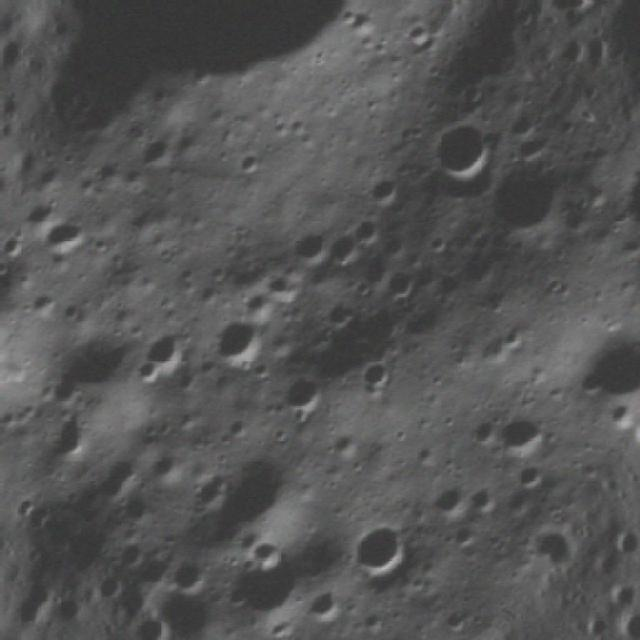crater: (560, 302, 640, 424), (477, 148, 575, 246), (413, 104, 501, 191), (595, 148, 640, 274), (343, 509, 415, 586), (210, 308, 275, 375), (90, 440, 152, 506), (130, 322, 188, 388), (40, 199, 97, 264), (496, 402, 555, 460), (273, 368, 329, 427), (356, 345, 406, 400), (300, 578, 349, 628), (286, 221, 334, 270), (424, 475, 471, 522), (378, 265, 424, 312), (134, 70, 180, 116), (362, 166, 406, 212), (134, 128, 180, 172), (109, 533, 154, 576), (398, 12, 440, 54), (463, 480, 505, 520), (504, 107, 545, 147), (347, 209, 387, 249), (437, 601, 476, 640), (169, 556, 206, 592), (512, 457, 550, 492), (0, 226, 31, 266), (326, 233, 360, 269), (466, 412, 500, 448), (233, 144, 262, 178), (56, 293, 85, 325), (187, 61, 216, 90)
